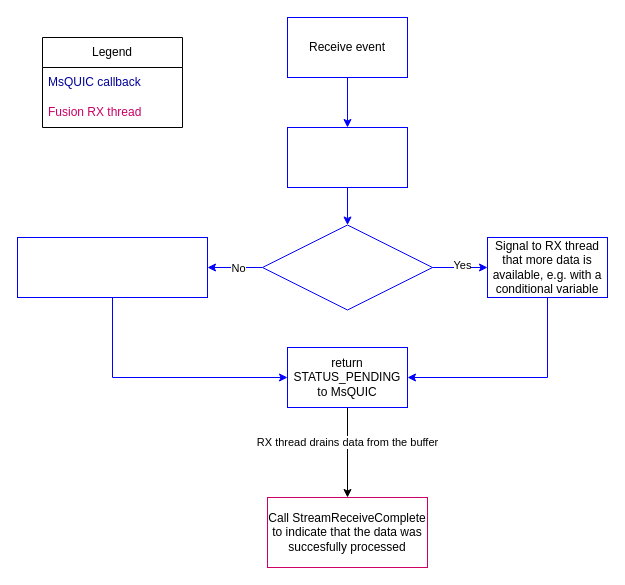
This 625x585 diagram has some shape labels left out. Here are the shapes that lost their labels. From the top down, the centre of each, then its label:
At pixel 347 157: "Store buffer information in transport object".
At pixel 112 267: "Create a MSG_SMB_TRANSPORT_RX event and pass the MSG to RX threads".
At pixel 347 267: "Is this connection being processed in RX thread".
